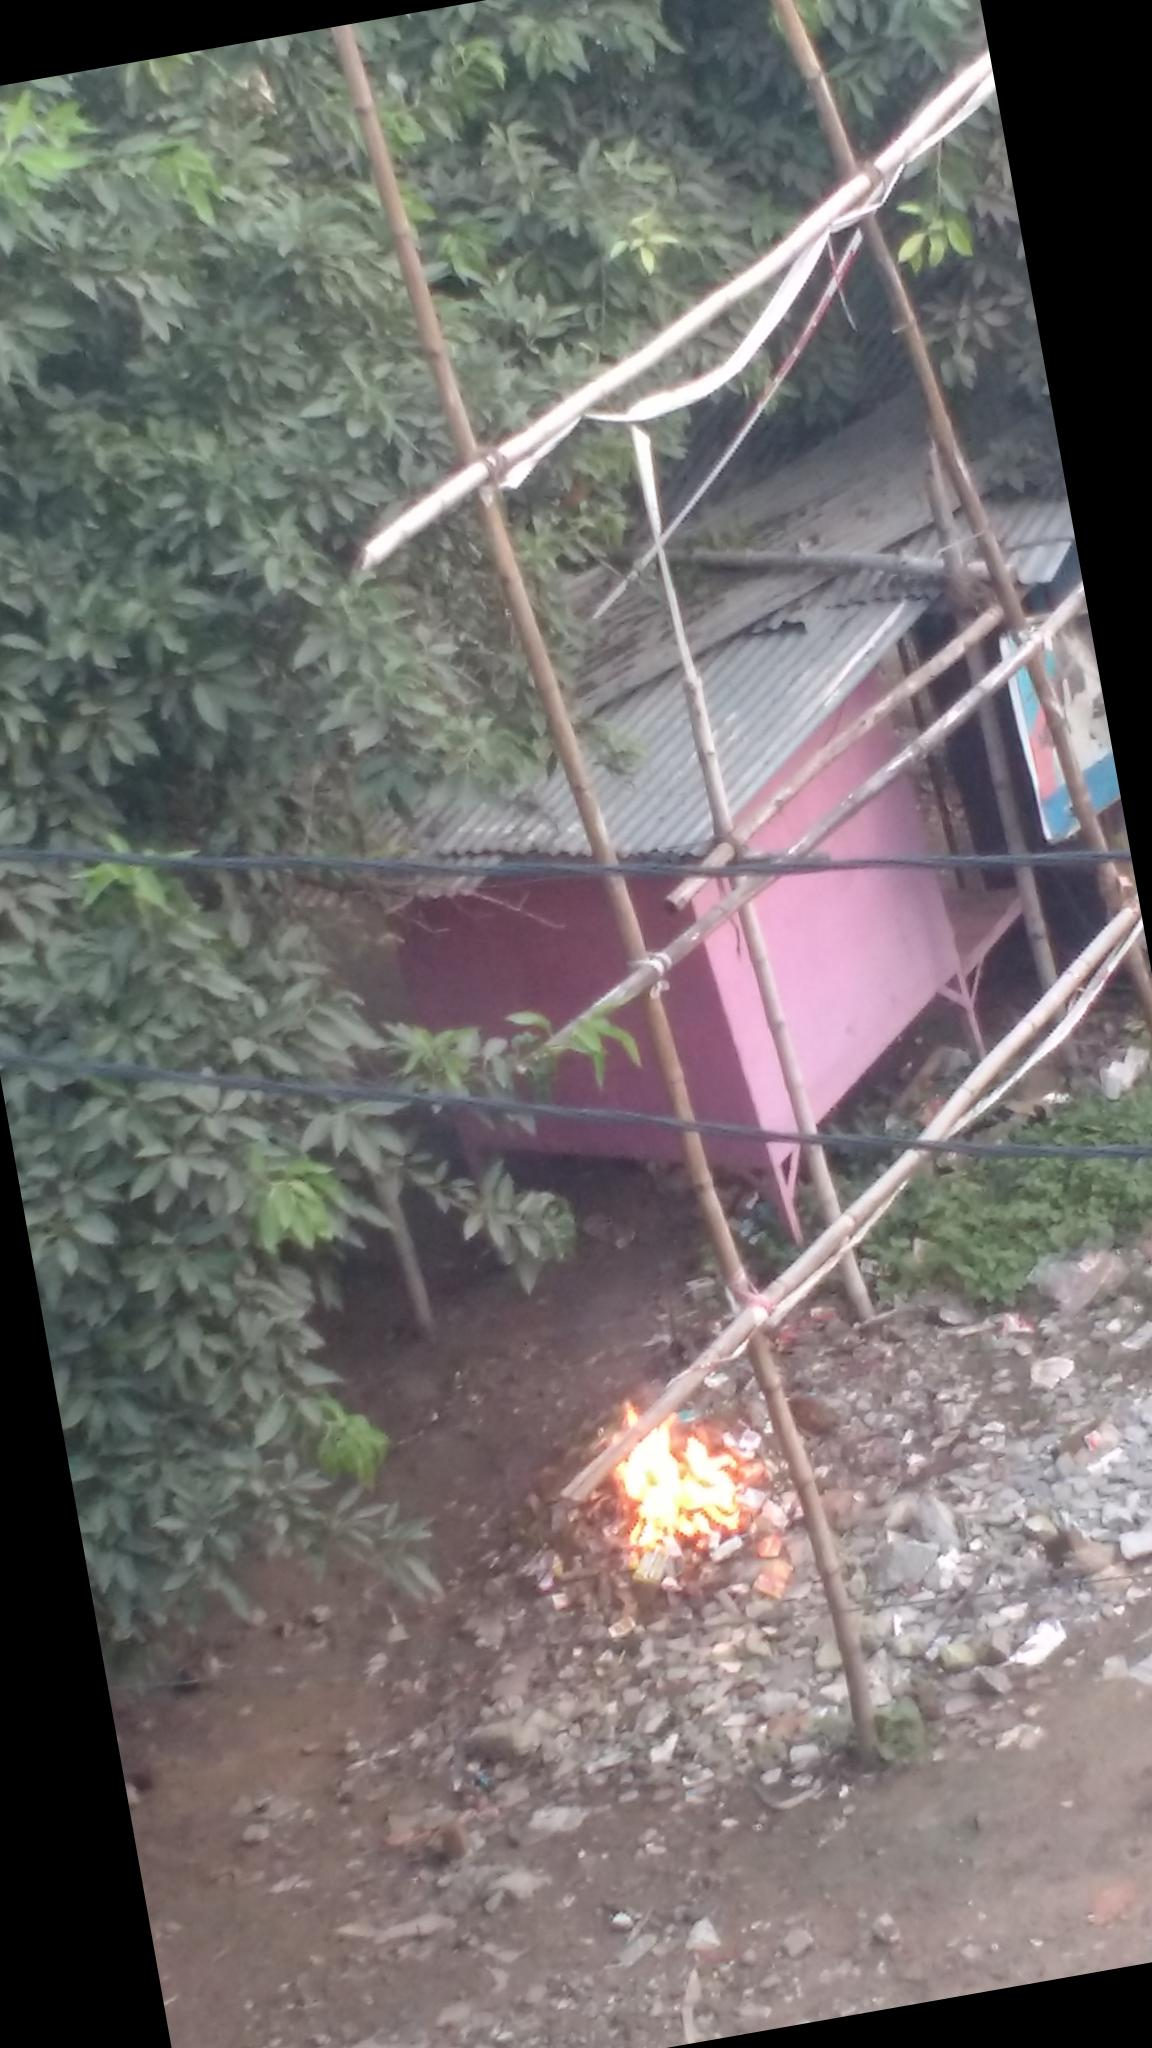Fire: (594, 1377, 791, 1616)
